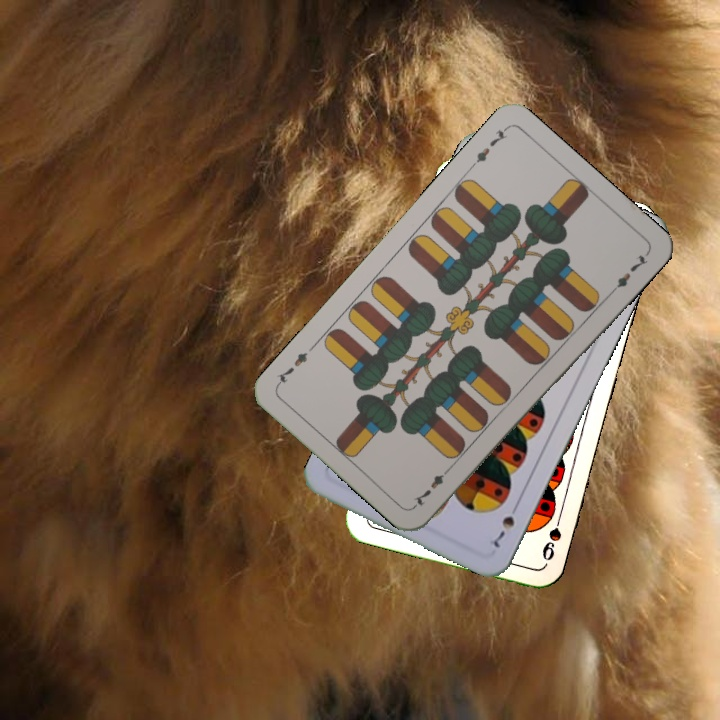E7: (409, 462, 455, 510), (466, 123, 511, 171)
S7: (489, 498, 522, 551)
S9: (538, 506, 565, 564)
